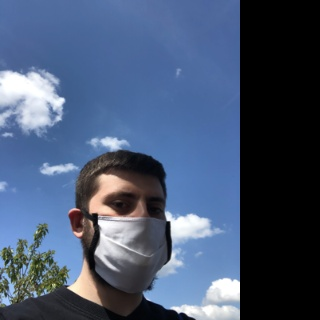with_mask: (90, 184, 172, 294)
